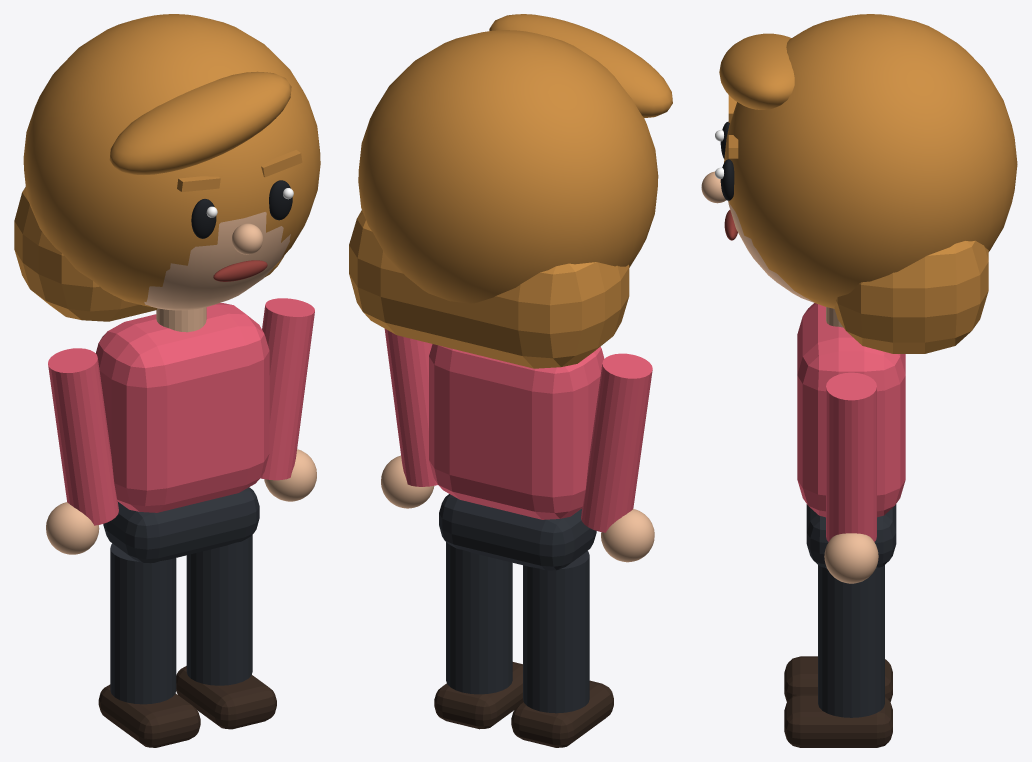
Rendered from persona_blusa_rosa.glb.
3 renders of one model, left to right at view 1: azimuth 30°, elevation 25°; view 2: azimuth 150°, elevation 25°; view 3: azimuth 270°, elevation 25°, orthographic.
Visible parts, largest first — view 1: Sphere.011, Cube.003, Sphere.012, Cylinder, Cylinder.001, Cylinder.002, Cube.002, Cylinder.003, Cube.006, Sphere.002, Cube, Cube.001 (+9 smaller); view 2: Sphere.011, Cube.003, Cube.006, Cylinder, Cylinder.001, Cylinder.002, Cube.002, Sphere.012, Cylinder.003, Cube, Cube.001, Sphere (+1 smaller); view 3: Sphere.011, Cube.003, Cube.006, Cylinder.001, Cylinder.003, Sphere.012, Cube.001, Sphere.001, Cube.002, Cube, Sphere.002, Sphere.009.
Part boxes in pixels (bbox=[...]): Sphere.011: bbox=[23, 14, 320, 306]; Cube.003: bbox=[95, 303, 269, 512]; Sphere.012: bbox=[109, 71, 291, 175]; Cylinder: bbox=[110, 543, 176, 704]; Cylinder.001: bbox=[186, 535, 252, 685]; Cylinder.002: bbox=[48, 348, 118, 525]; Cube.002: bbox=[103, 487, 259, 563]; Cylinder.003: bbox=[261, 298, 314, 480]; Cube.006: bbox=[14, 187, 283, 321]; Sphere.002: bbox=[144, 212, 290, 310]; Cube: bbox=[98, 684, 200, 747]; Cube.001: bbox=[176, 666, 276, 729]; Sphere.011: bbox=[358, 30, 658, 303]; Cube.003: bbox=[429, 344, 604, 519]; Cube.006: bbox=[349, 210, 629, 368]; Cylinder: bbox=[523, 551, 589, 713]; Cylinder.001: bbox=[446, 542, 512, 694]; Cylinder.002: bbox=[581, 353, 652, 532]; Cube.002: bbox=[439, 494, 596, 570]; Sphere.012: bbox=[489, 14, 672, 117]; Cylinder.003: bbox=[384, 329, 437, 486]; Cube: bbox=[511, 680, 613, 747]; Cube.001: bbox=[434, 662, 523, 729]; Sphere: bbox=[601, 509, 654, 562]; Sphere.011: bbox=[724, 14, 1017, 308]; Cube.003: bbox=[797, 303, 905, 517]; Cube.006: bbox=[834, 240, 988, 353]; Cylinder.001: bbox=[818, 565, 884, 717]; Cylinder.003: bbox=[826, 372, 876, 541]; Sphere.012: bbox=[719, 33, 794, 109]; Cube.001: bbox=[784, 694, 892, 747]; Sphere.001: bbox=[824, 533, 878, 583]; Cube.002: bbox=[806, 504, 896, 567]; Cube: bbox=[784, 656, 892, 701]; Sphere.002: bbox=[728, 200, 814, 302]; Sphere.009: bbox=[701, 171, 726, 203].
Size of the model in its own units: 0.97 by 2.39 by 0.99.
